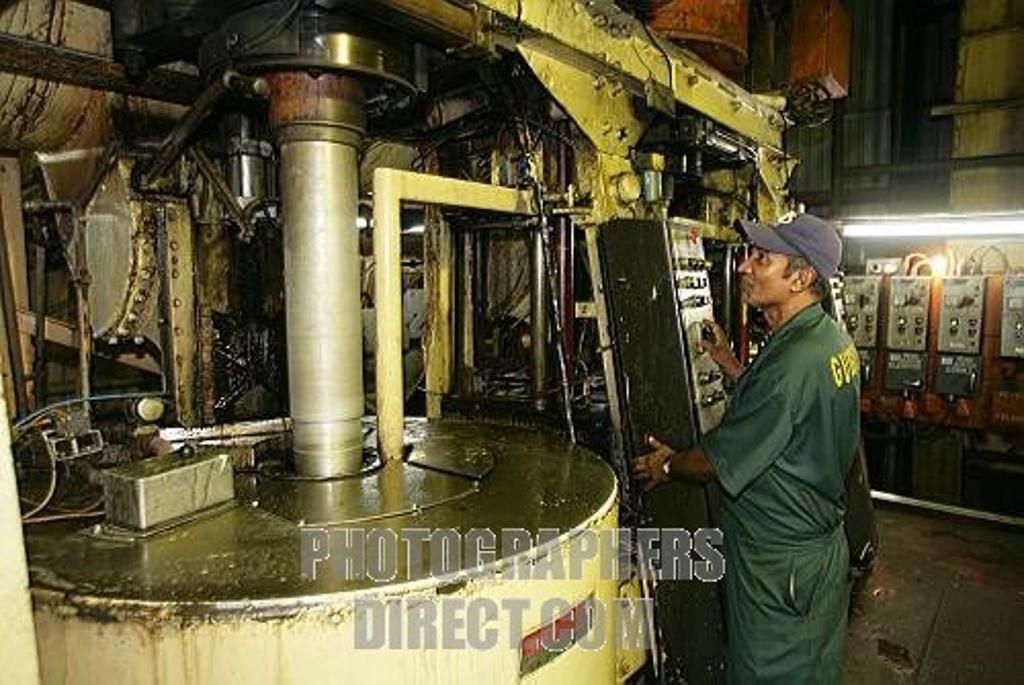face: (738, 228, 794, 306)
